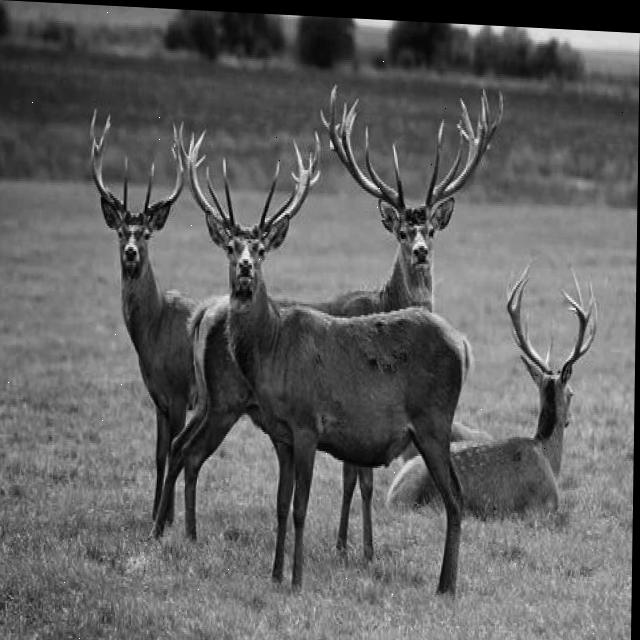Deer: (217, 208, 498, 537), (64, 116, 216, 383), (328, 105, 474, 335), (494, 329, 586, 522)
